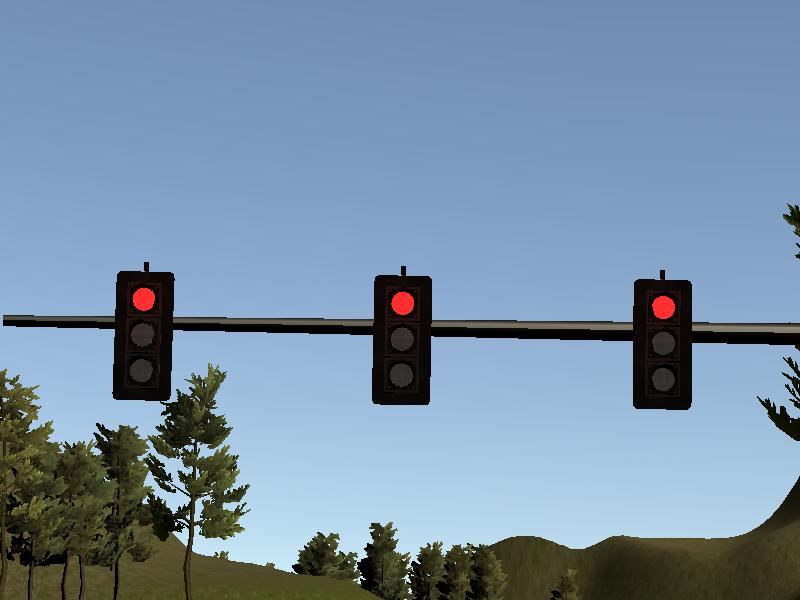red: (112, 270, 173, 401), (370, 275, 431, 406), (631, 280, 692, 411)
